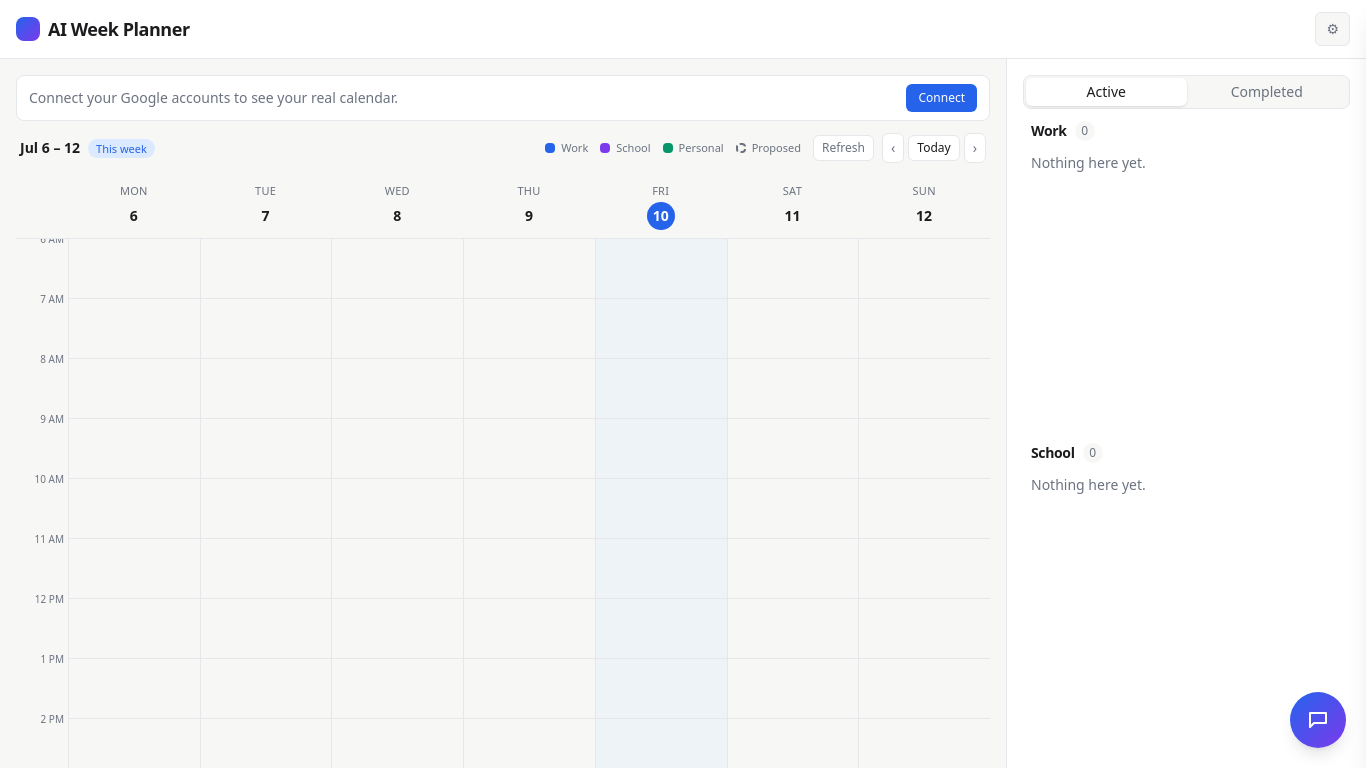
DashboardShell — planner loop › surfaces a friendly error and leaves the calendar unchanged on failure
Click the button named "Open planner chat". click: [1318, 720]
box: [1290,692,1346,748]
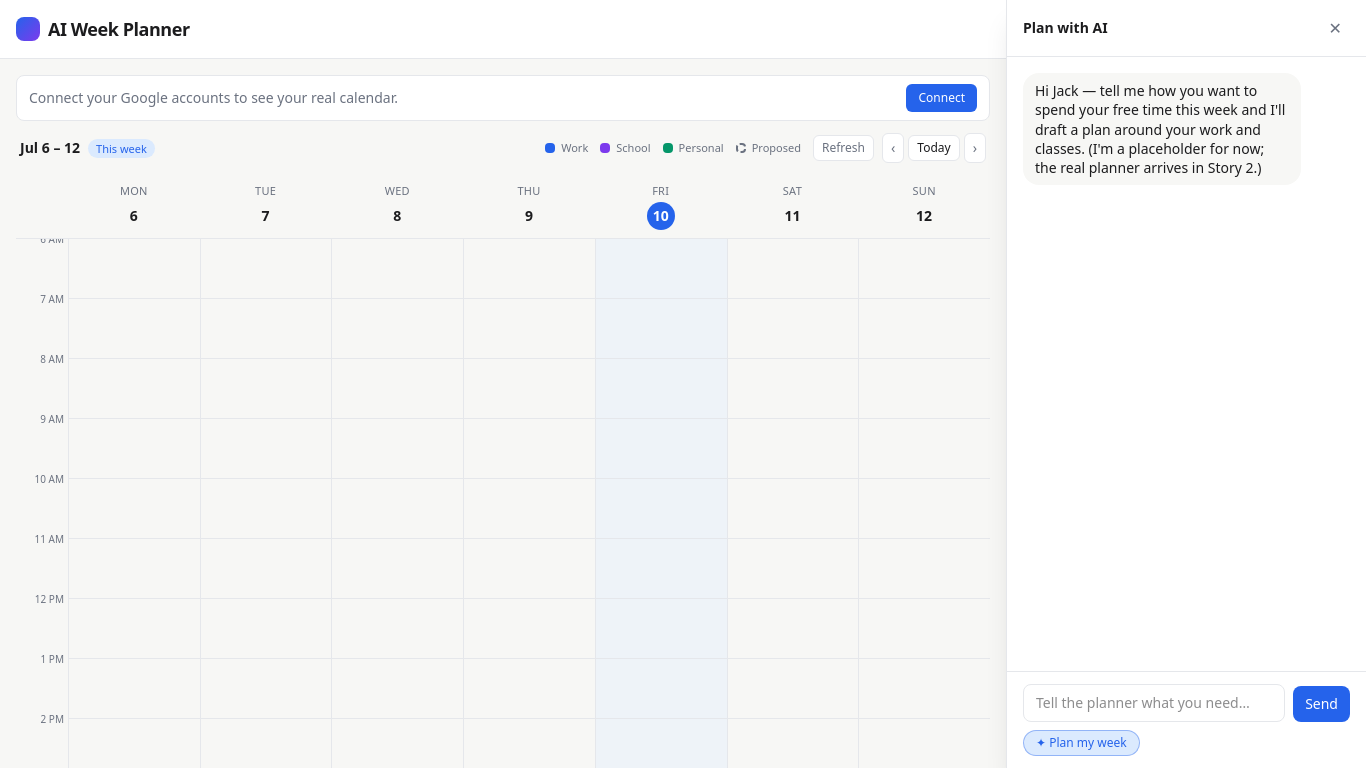
Click the button "✦ Plan my week". click: [1081, 743]
box: [1023,730,1140,756]
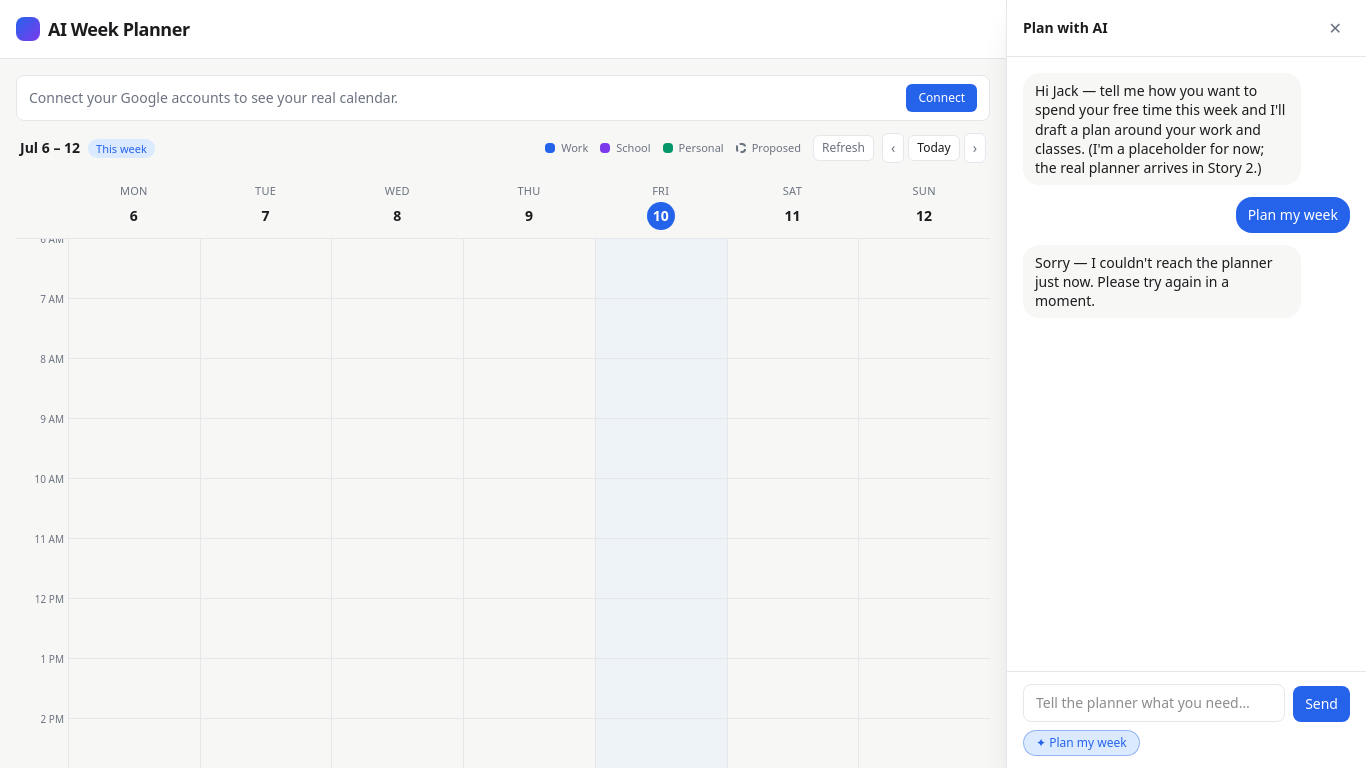
Now the text "couldn't reach the planner" is shown, box [1035,252,1272,310]
